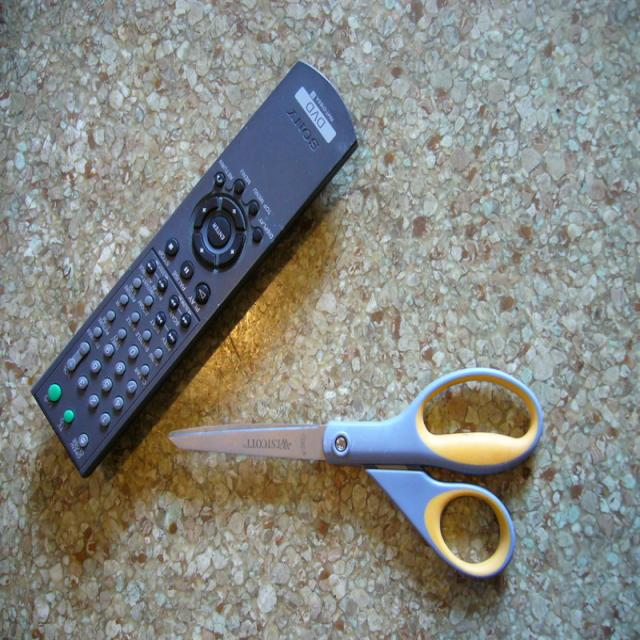remote: (32, 62, 356, 476)
scissors: (169, 368, 543, 577)
